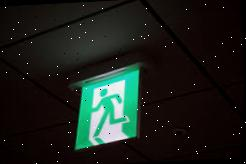emergency_exit: (69, 62, 143, 152)
